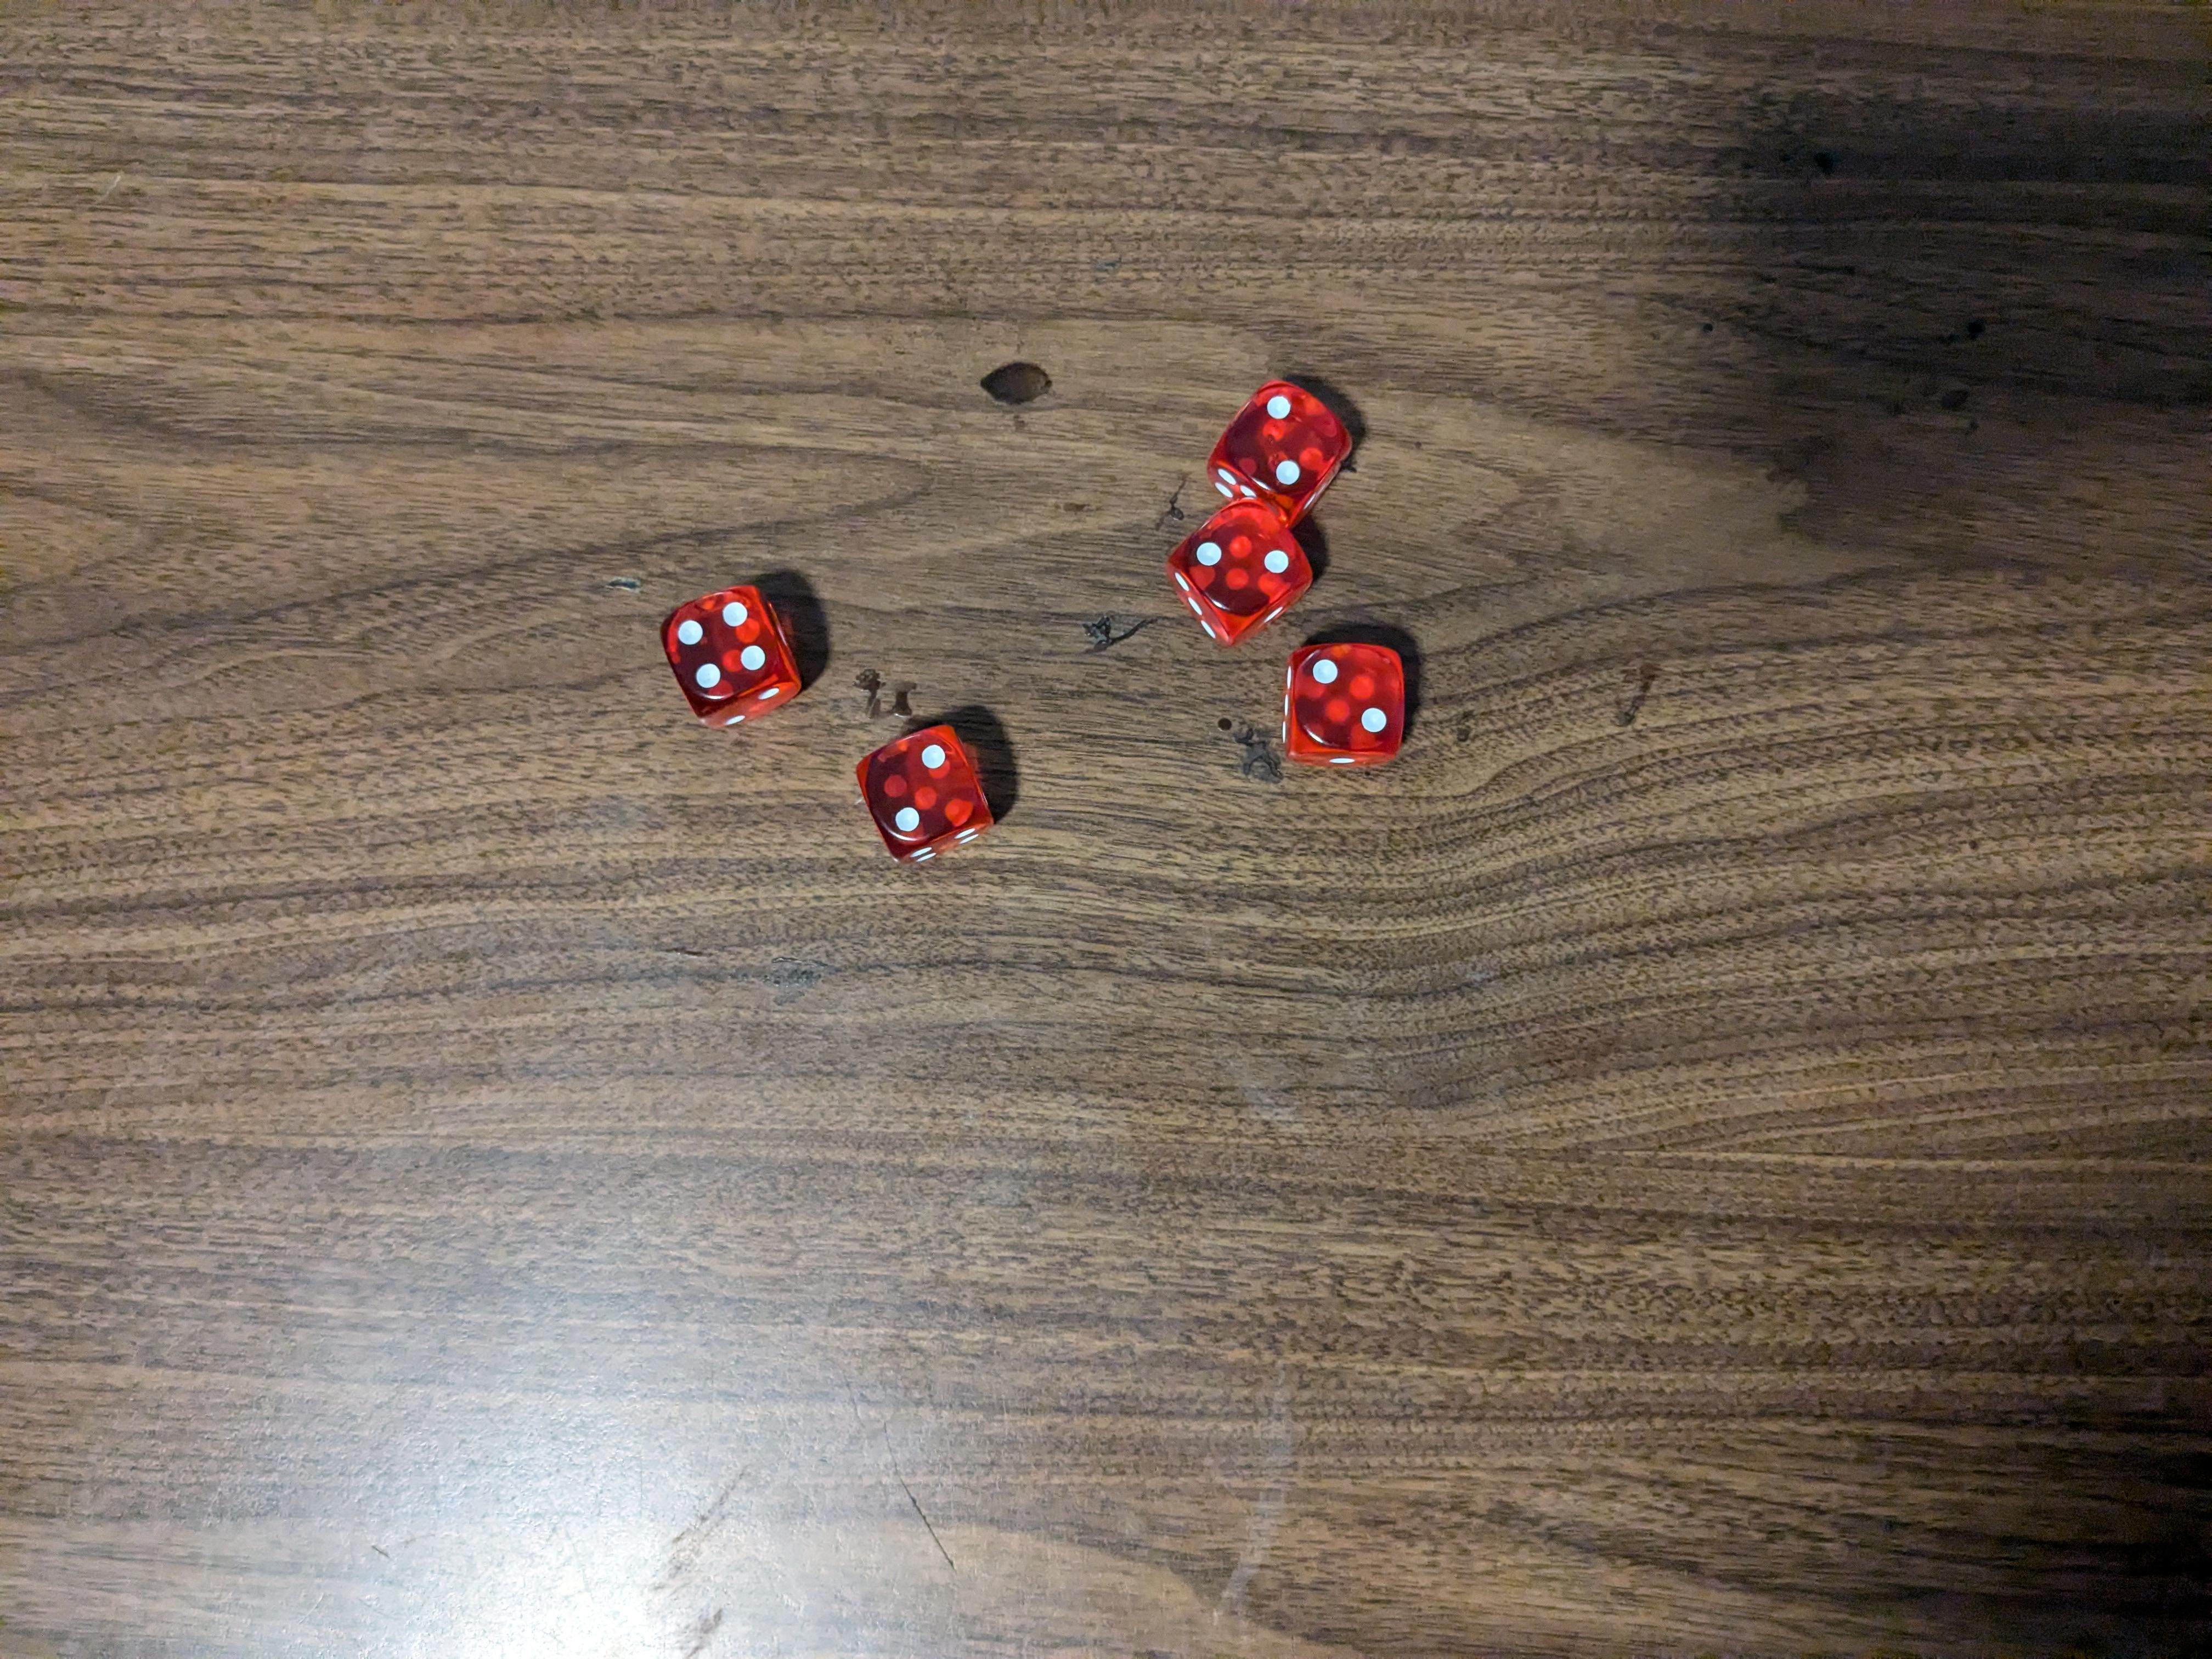four: (650, 584, 805, 734)
two: (1174, 497, 1322, 653), (1205, 376, 1360, 519), (852, 723, 1000, 870), (1284, 640, 1409, 769)
